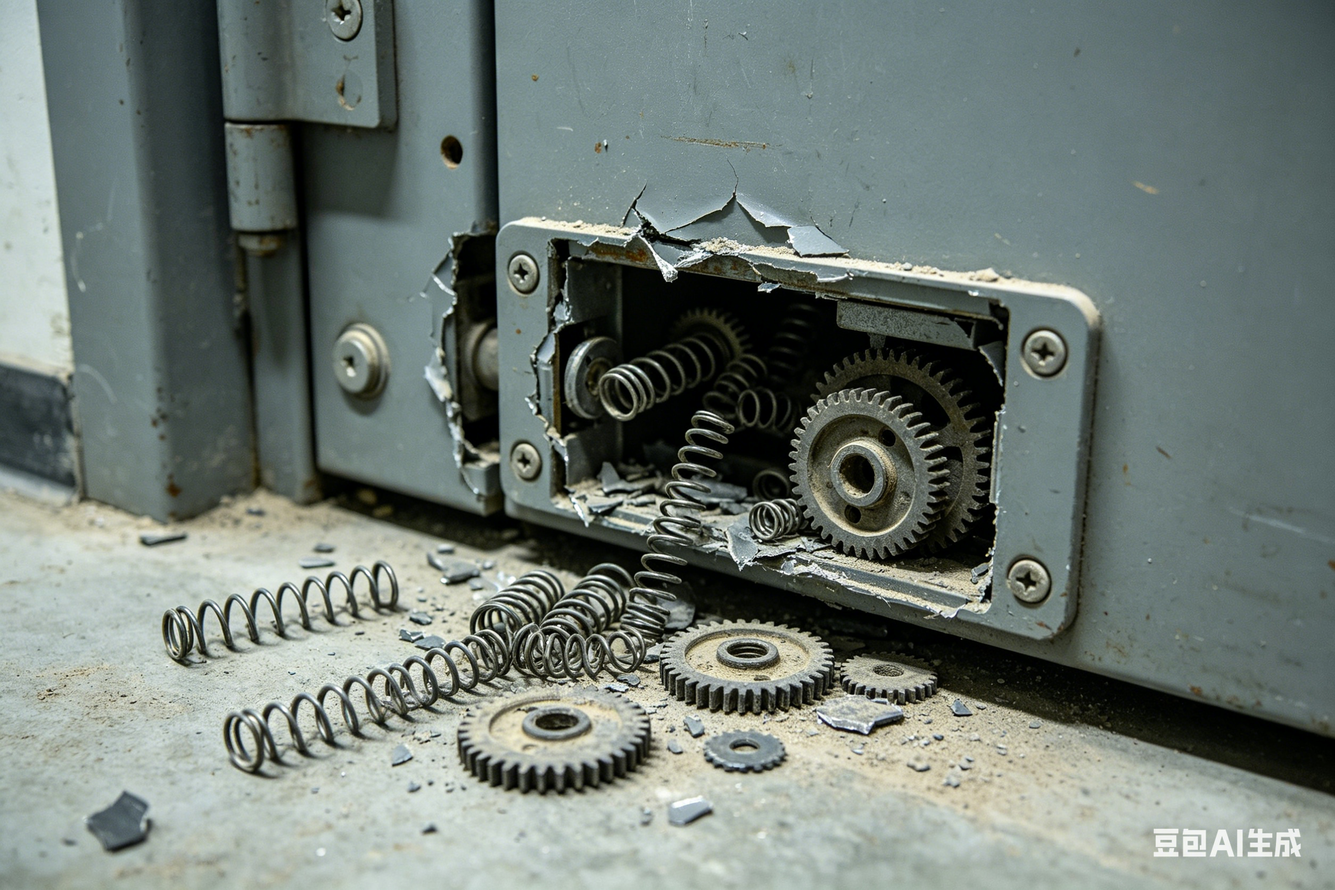BadLock: (431, 216, 556, 503), (602, 202, 849, 309)
